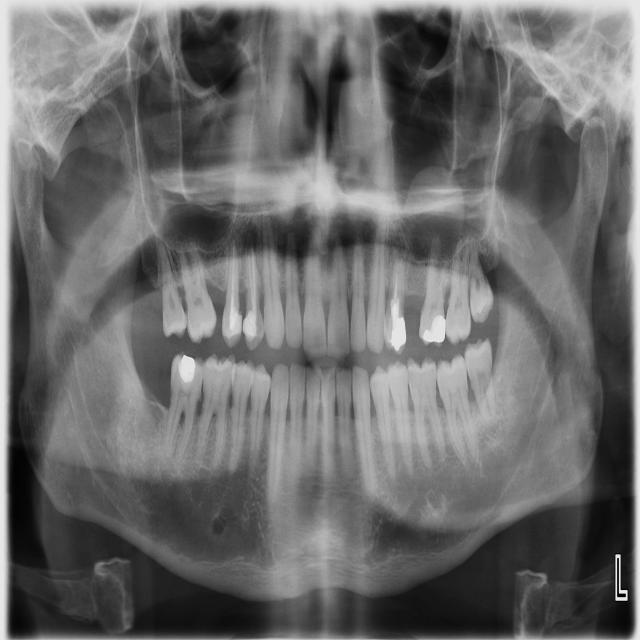mandibula: (11, 115, 609, 605)
